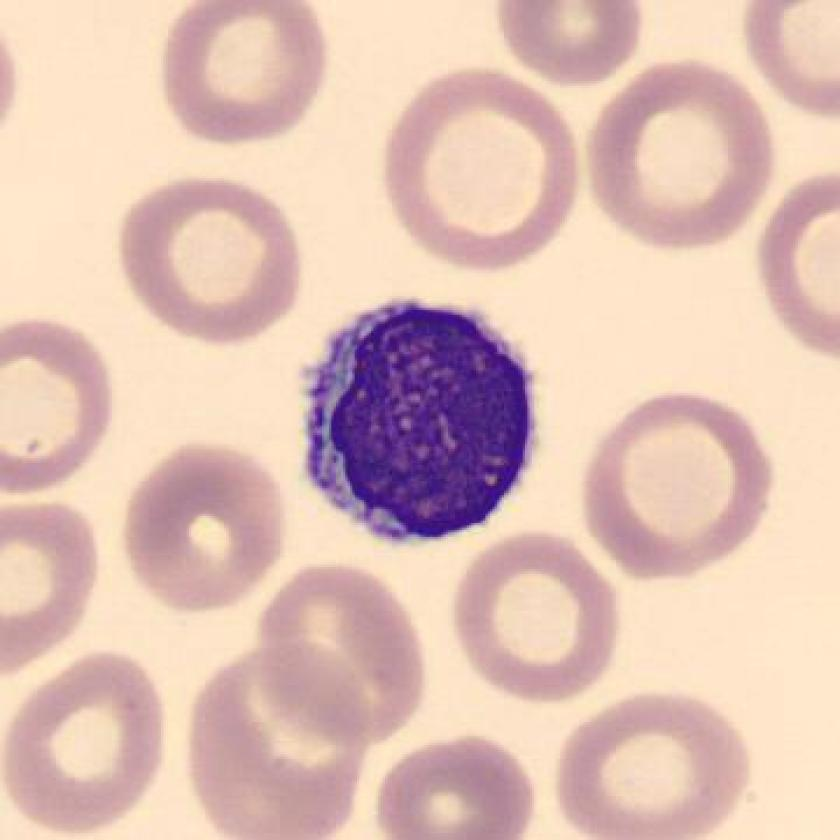lymphocyte: (279, 283, 563, 566)
